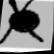not correct: (0, 0, 49, 53)
